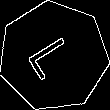L_NE: (24, 30, 83, 83)
